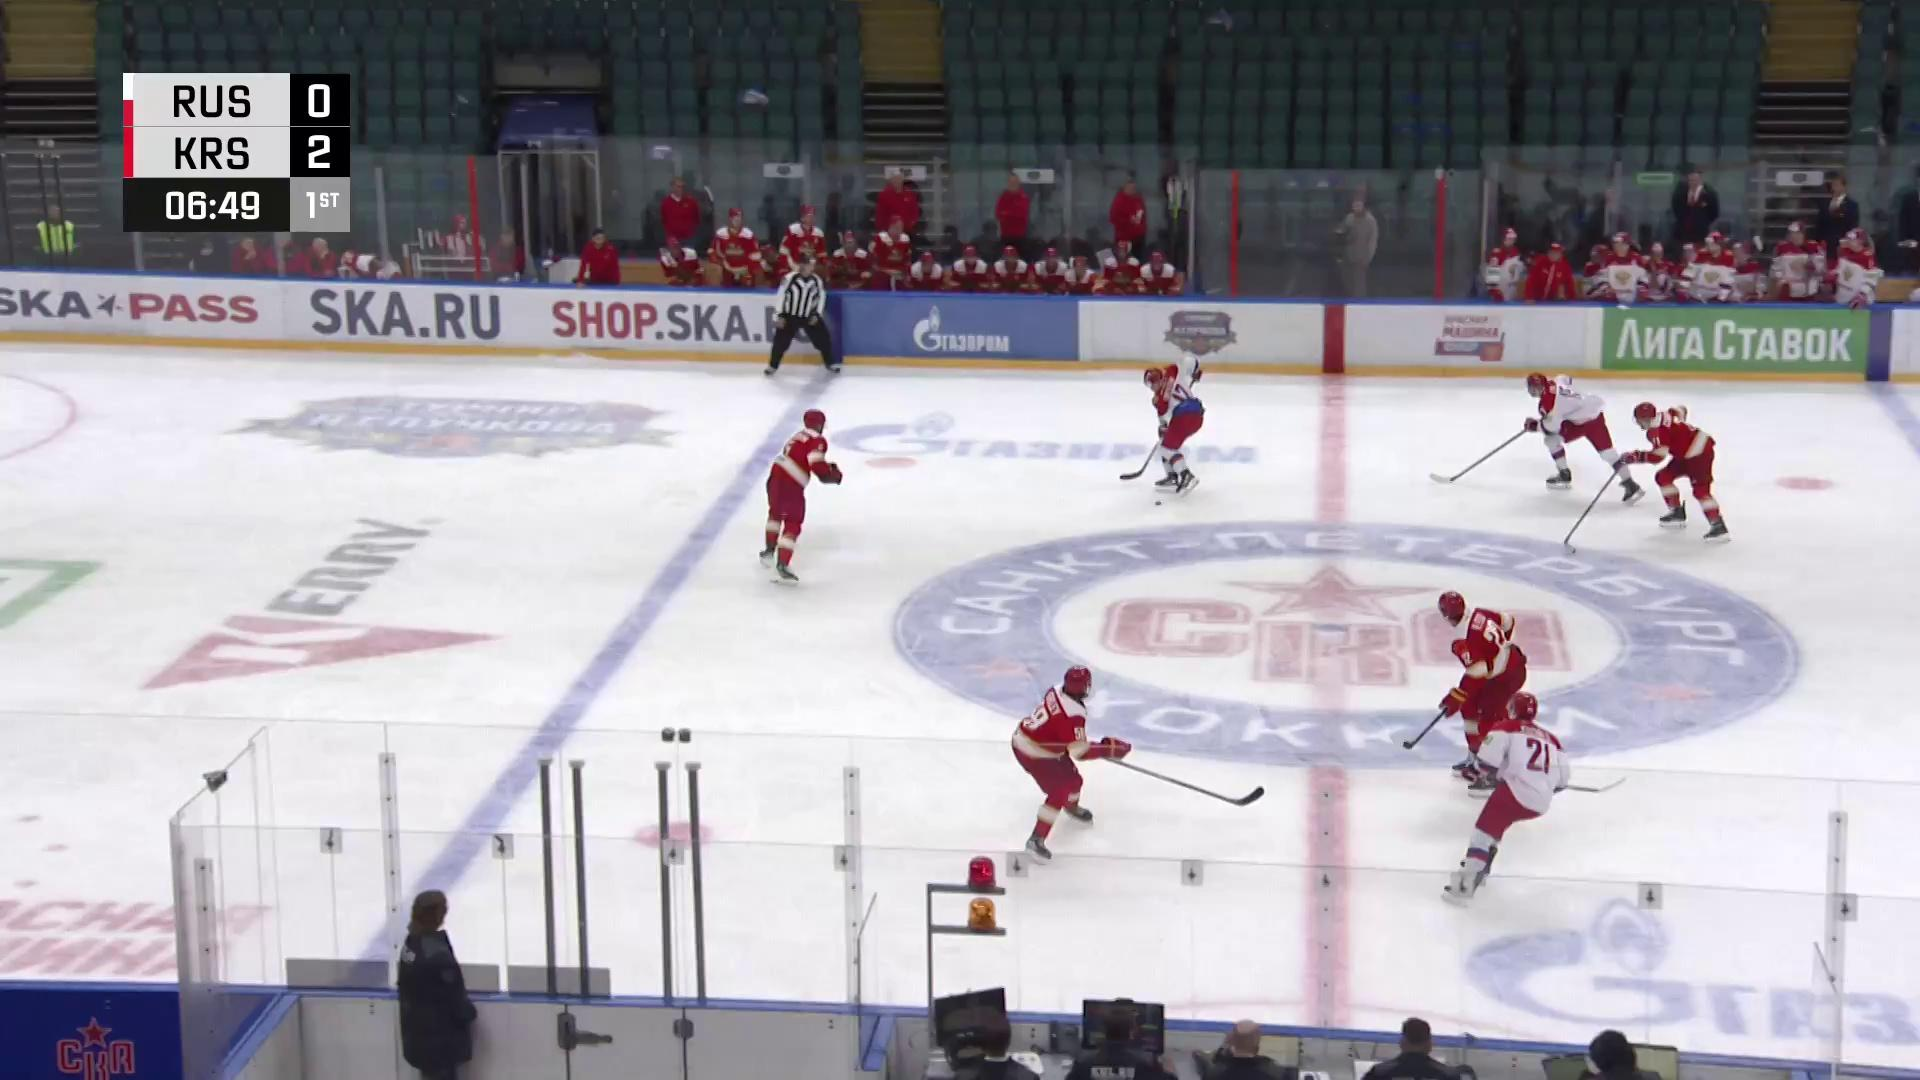ball: (1154, 498, 1164, 508)
